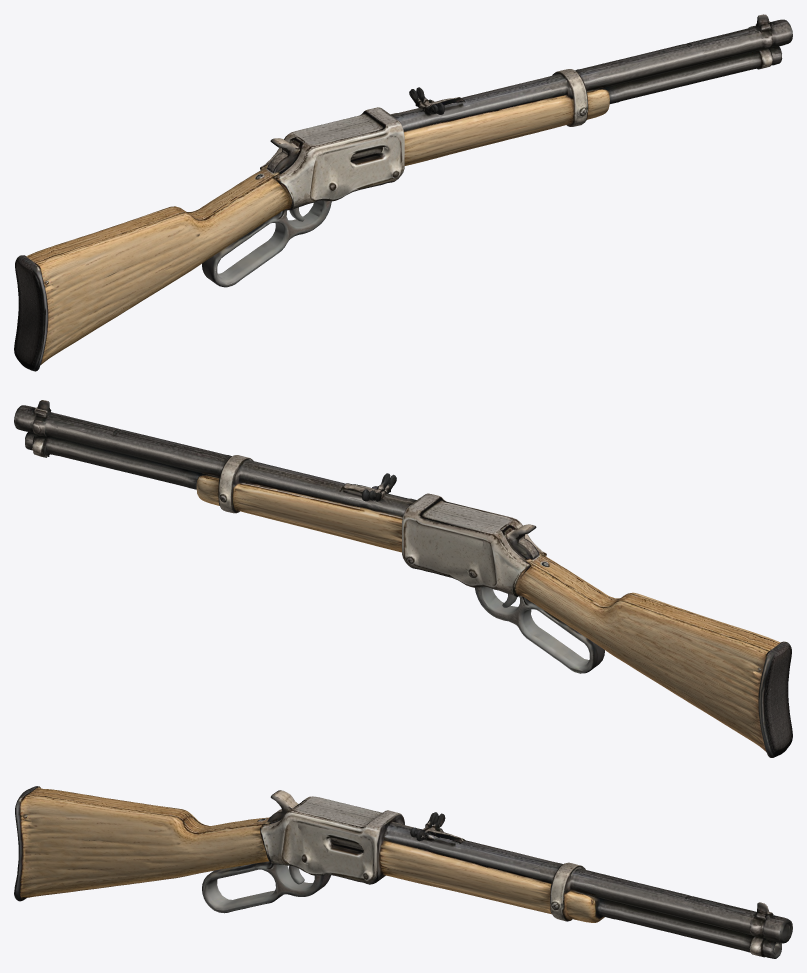
File: lever.glb
3 views of the same model, one above another, from view 1: azimuth 30°, elevation 25°; view 2: azimuth 150°, elevation 25°; view 3: azimuth 330°, elevation 25° (orthographic).
Parts seen in each view (by area): view 1: tripo_node_ea784d8e-6438-49c4-b107-36d8c8e882b3; view 2: tripo_node_ea784d8e-6438-49c4-b107-36d8c8e882b3; view 3: tripo_node_ea784d8e-6438-49c4-b107-36d8c8e882b3.
Boxes of the visible parts, x1,y1,x2,y2 form: tripo_node_ea784d8e-6438-49c4-b107-36d8c8e882b3: [14, 14, 792, 371]; tripo_node_ea784d8e-6438-49c4-b107-36d8c8e882b3: [14, 400, 792, 757]; tripo_node_ea784d8e-6438-49c4-b107-36d8c8e882b3: [14, 786, 792, 958].
Size of the model in its own units: 0.9826 by 0.2126 by 0.0693.
1 material, 1 textured.
